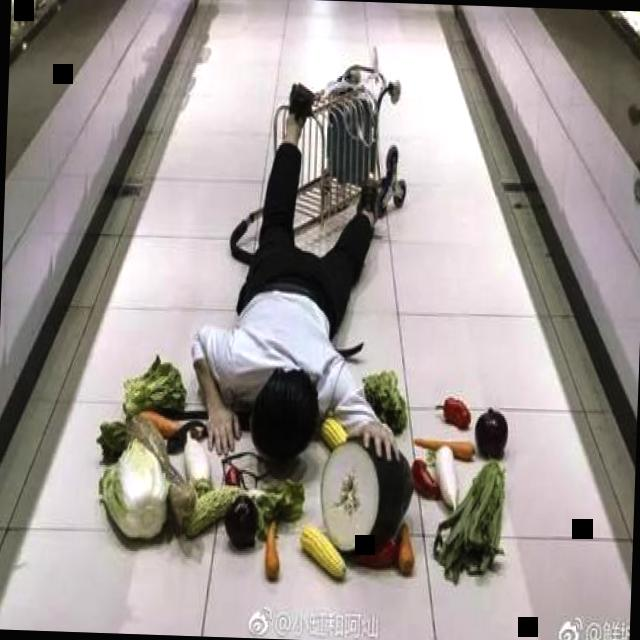Fall-Detected: (167, 56, 430, 493)
